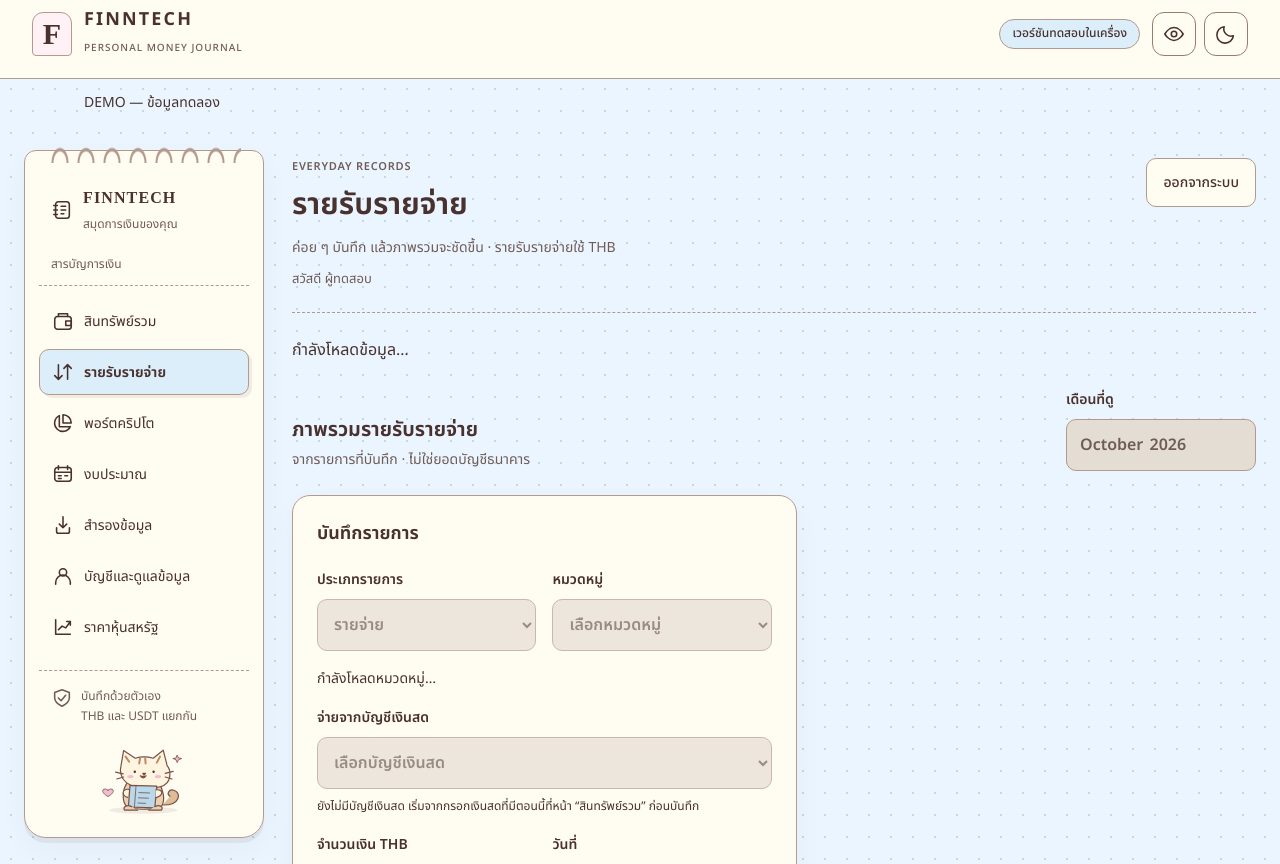
Scenario: Thai Auth UI › keeps fresh logout locked after success and failed /api/health reconciliation, then permits deliberate fresh entry
Check: the text "สวัสดี ผู้ทดสอบ" is shown, box [292,269,372,289]
Click the button "บัญชีและดูแลข้อมูล". click: (144,576)
box: [39,553,249,599]
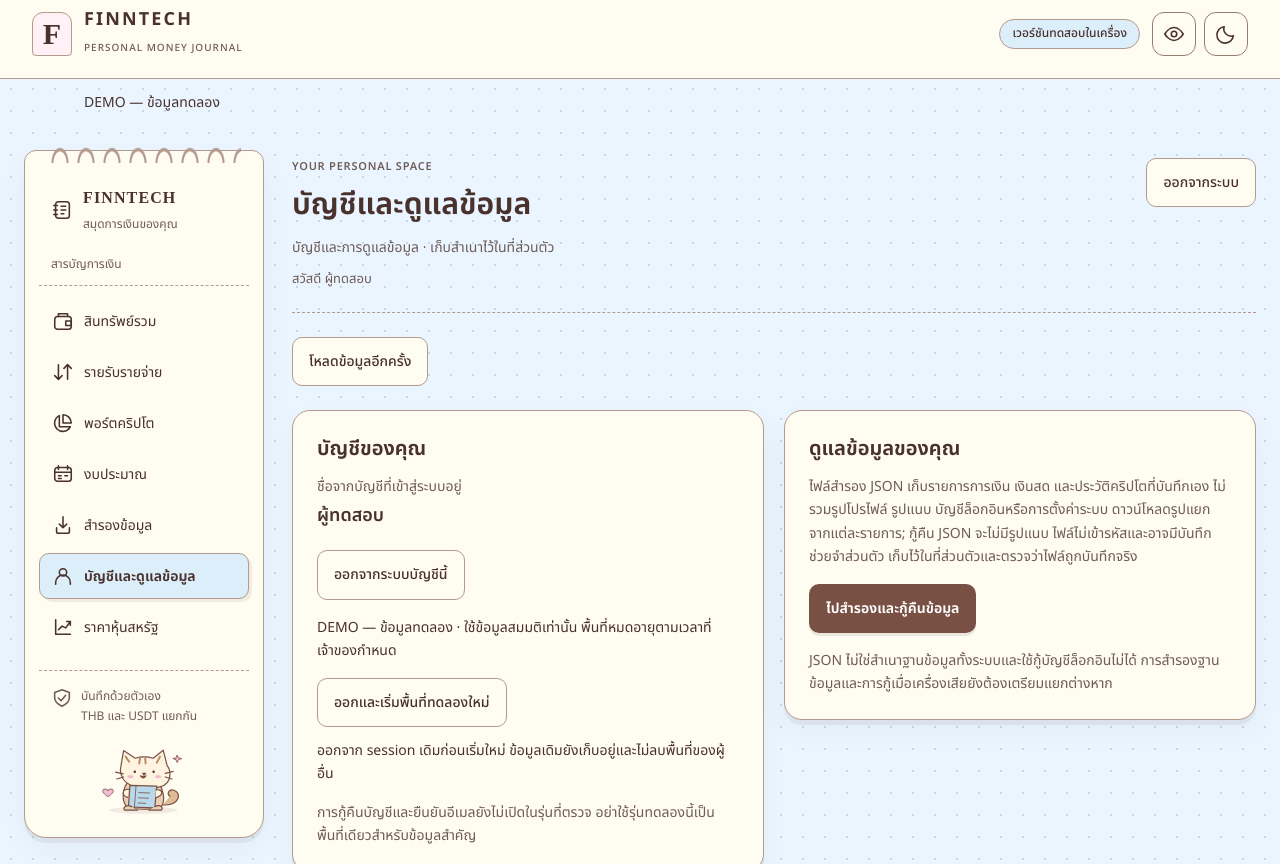
Click the button "ออกและเริ่มพื้นที่ทดลองใหม่". click: (412,702)
box: [317,678,506,727]
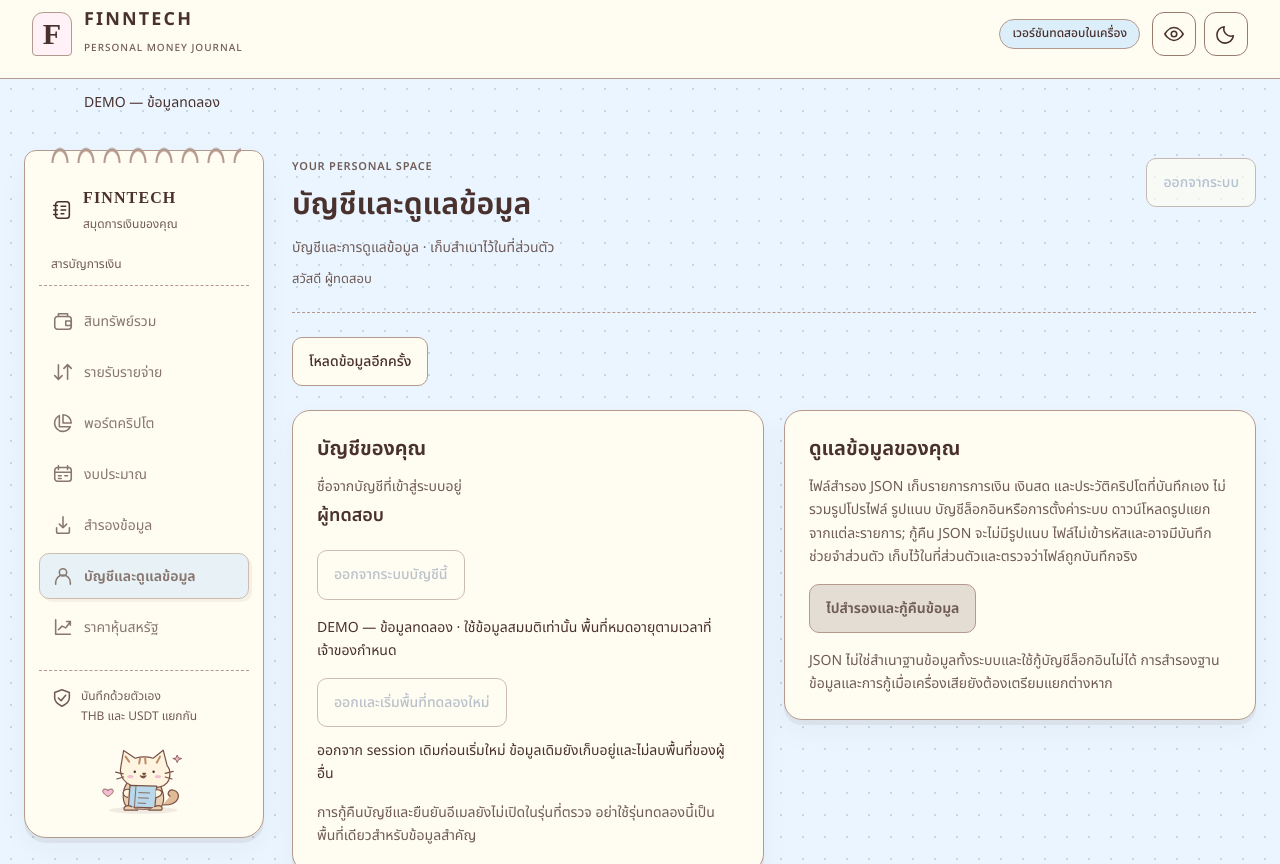
Check: the button "ออกและเริ่มพื้นที่ทดลองใหม่" is disabled
Check: the button "ออกจากระบบ" is disabled, box [1146,158,1256,207]
Check: the button "ออกจากระบบบัญชีนี้" is disabled, box [317,550,465,600]
Click the button "ออกและเริ่มพื้นที่ทดลองใหม่". click: (412,702)
box: [317,678,506,727]
(page scrolled)
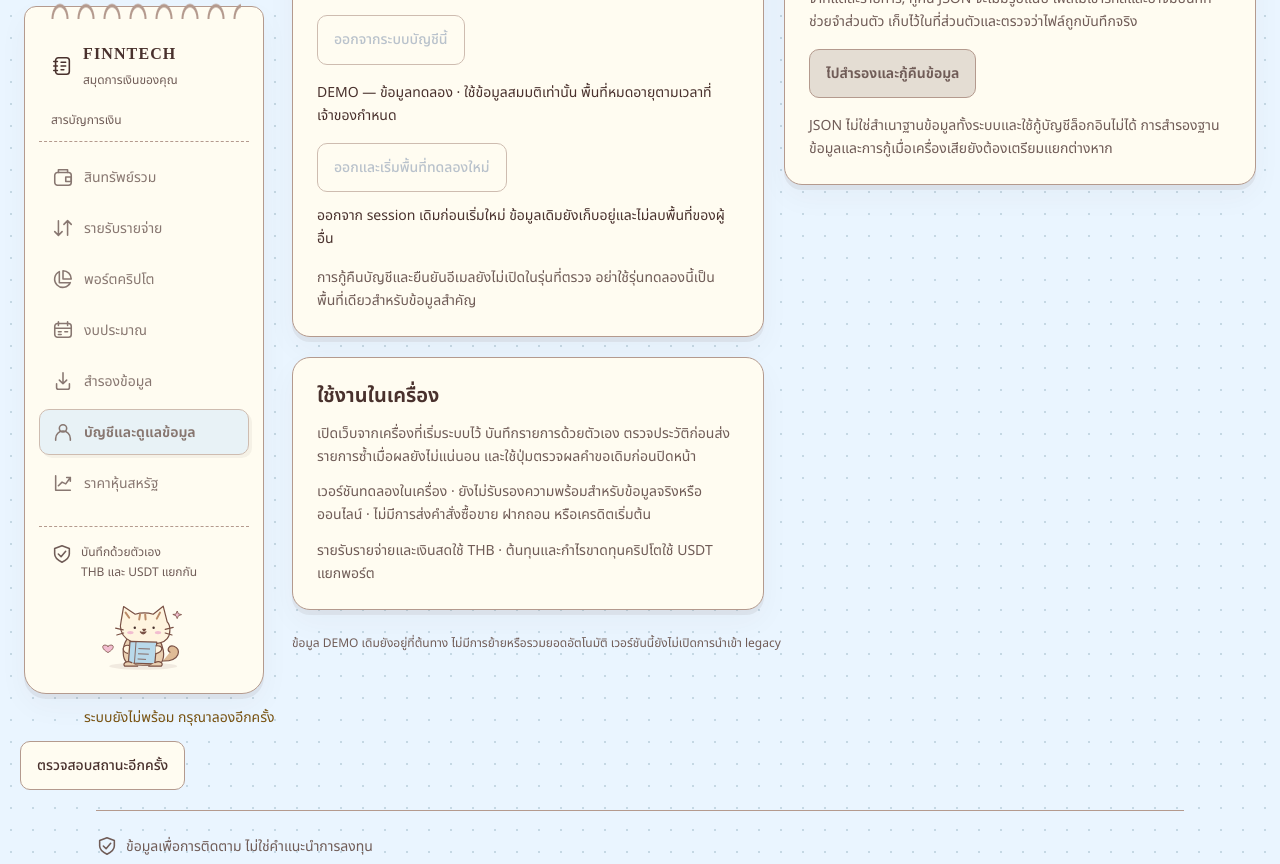
Click the button "ตรวจสอบสถานะอีกครั้ง". click: (103,765)
box: [20,741,185,790]
(page scrolled)
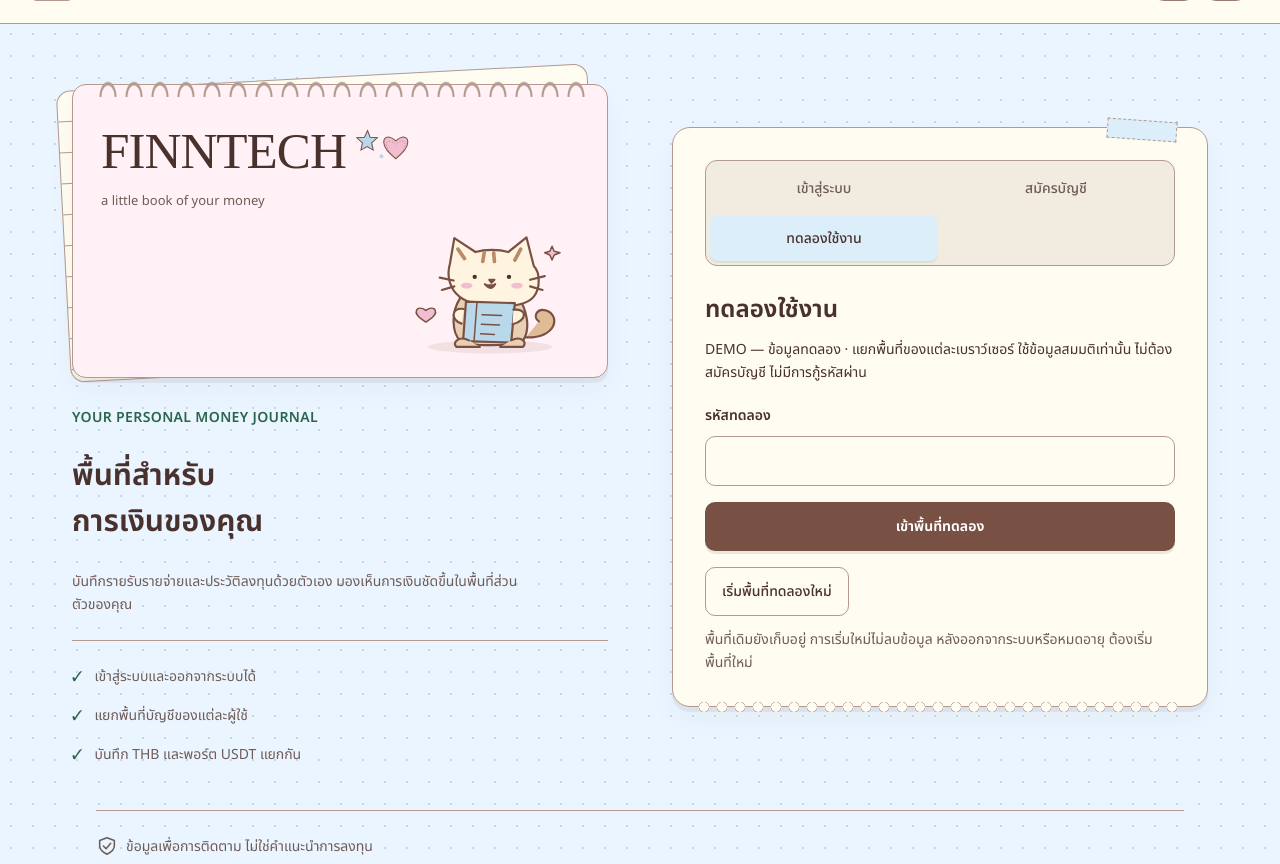
Check: the password field labelled "รหัสทดลอง" is enabled, box [705,436,1175,486]
Click the button "เริ่มพื้นที่ทดลองใหม่". click: (777,591)
box: [705,567,849,616]
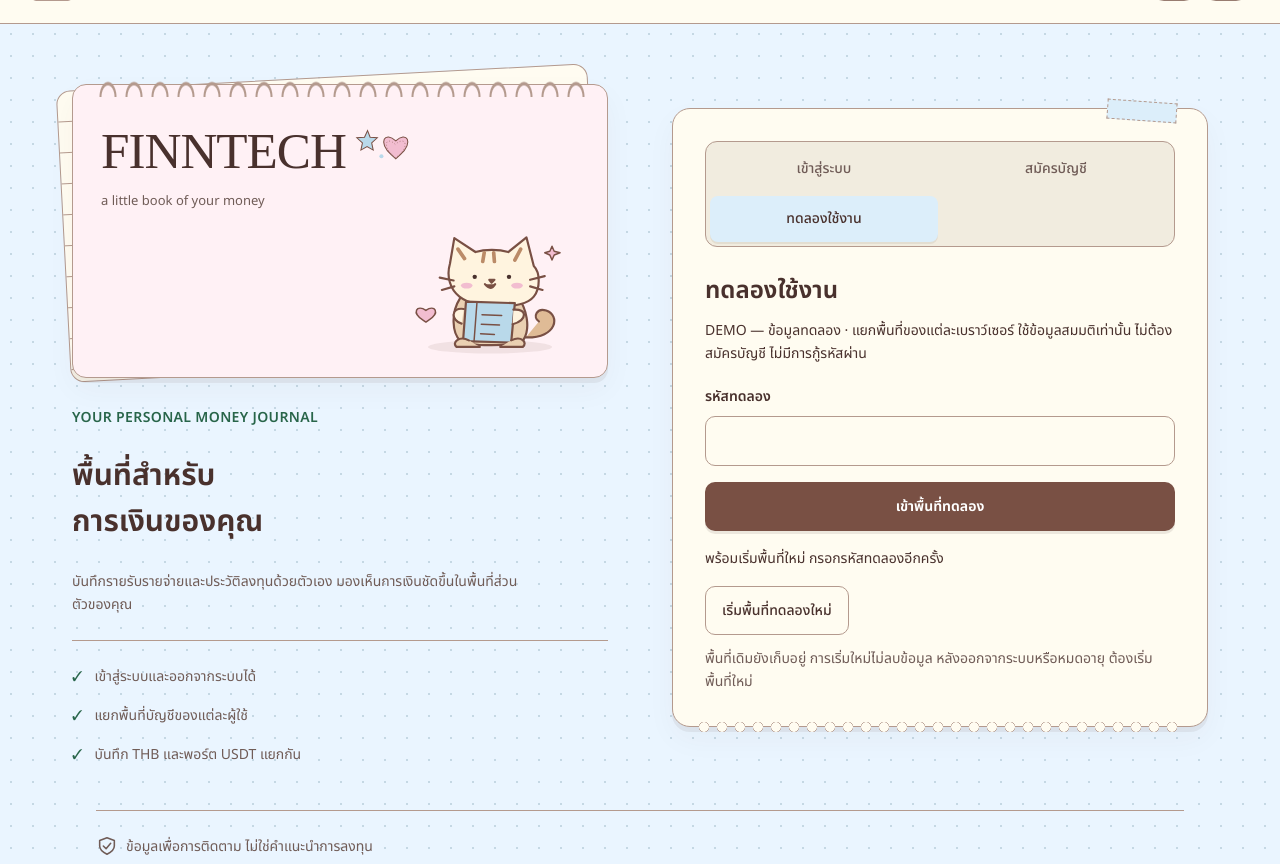
Check: the text "พร้อมเริ่มพื้นที่ใหม่ กรอกรหัสทดลองอีกครั้ง" is shown, box [705,548,944,569]
